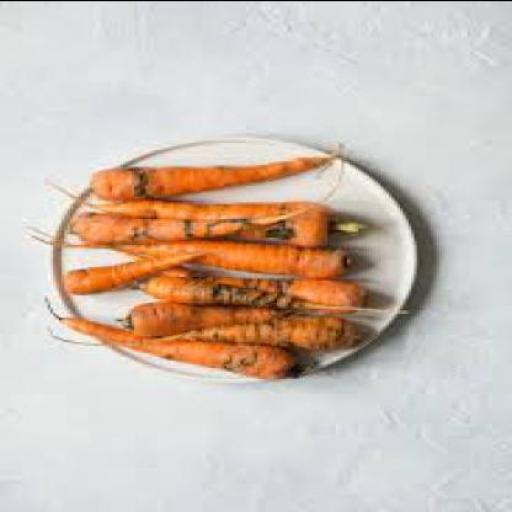biodegradable: (38, 300, 300, 380), (70, 202, 361, 244), (87, 158, 333, 201), (56, 206, 308, 244), (81, 242, 350, 277), (154, 272, 356, 315), (154, 315, 358, 352), (134, 288, 400, 314), (56, 251, 207, 294), (118, 307, 288, 337)
